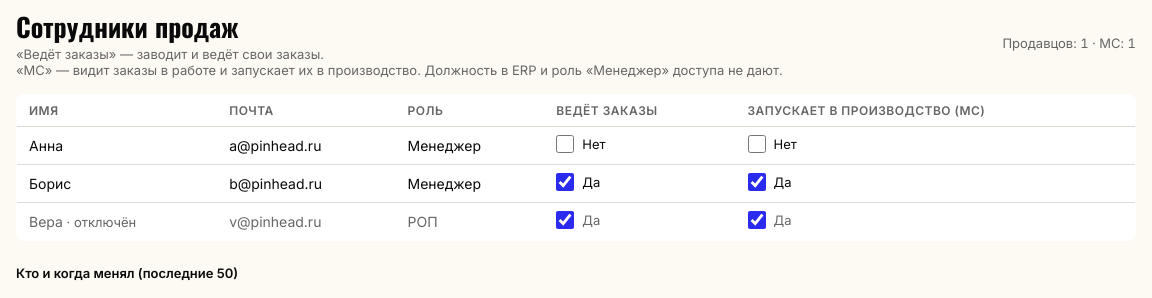
Scenario: SalesStaff › «Ведёт заказы» сохраняется через RPC с видом sales
Expected: the text "Анна" is shown, [16, 126, 217, 164]
Click the 1st checkbox labelled "Нет".
click(565, 144)  # box [556, 135, 574, 153]
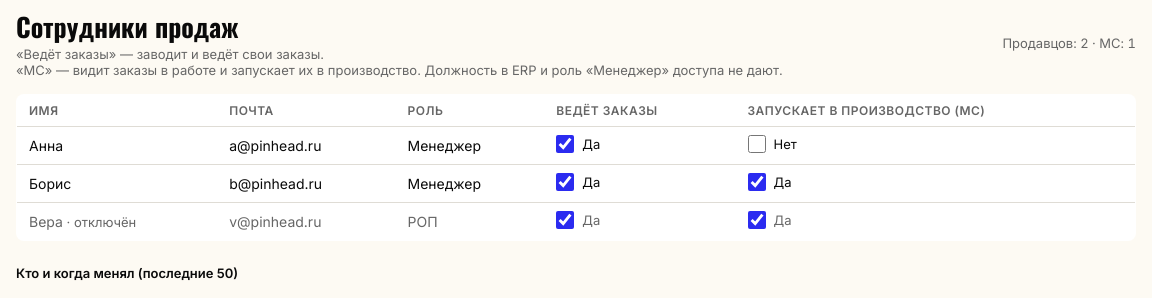
Result: the text "Продавцов: 2 · МС: 1" is shown at [1002, 34, 1136, 50]
